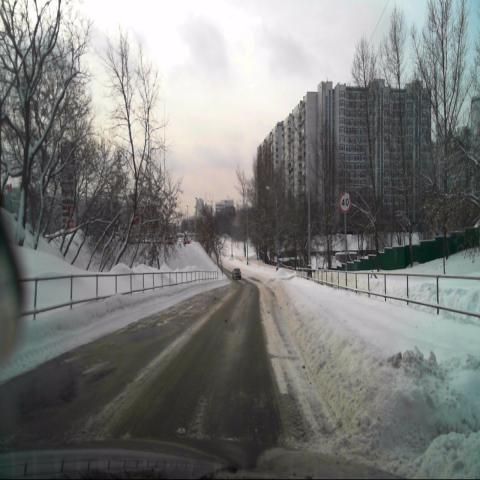3_24: (339, 192, 351, 215)
